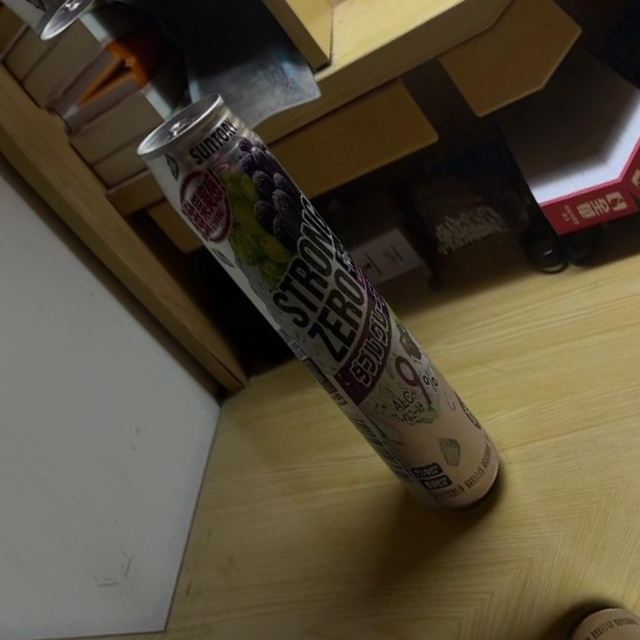Liquor: (123, 81, 534, 540)
